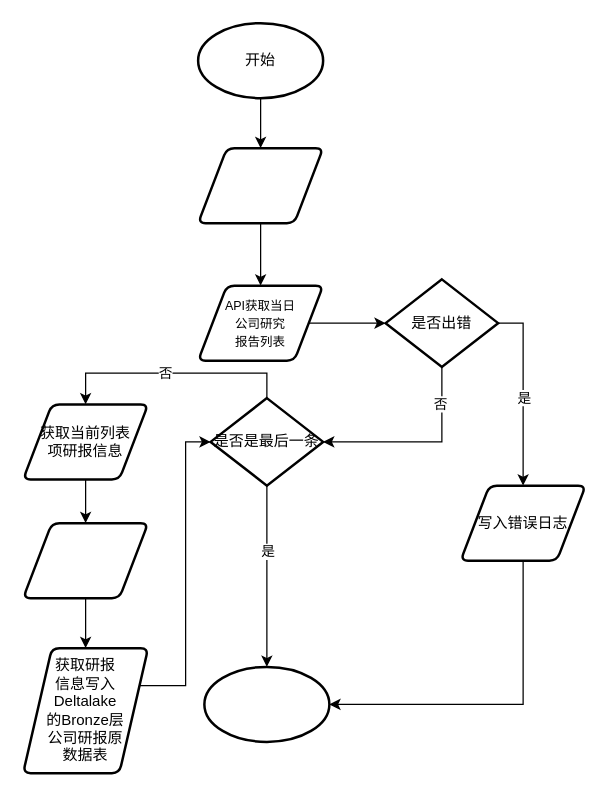
The diagram is 608 pixels wide and 795 high, and some of its shapes have lost their labels. The centre of each missing label's shape, as x and y in pixels:
组建当日参数: point 260,185
结束: point 266,703
获取研报原文 写入对象存储: point 85,560
